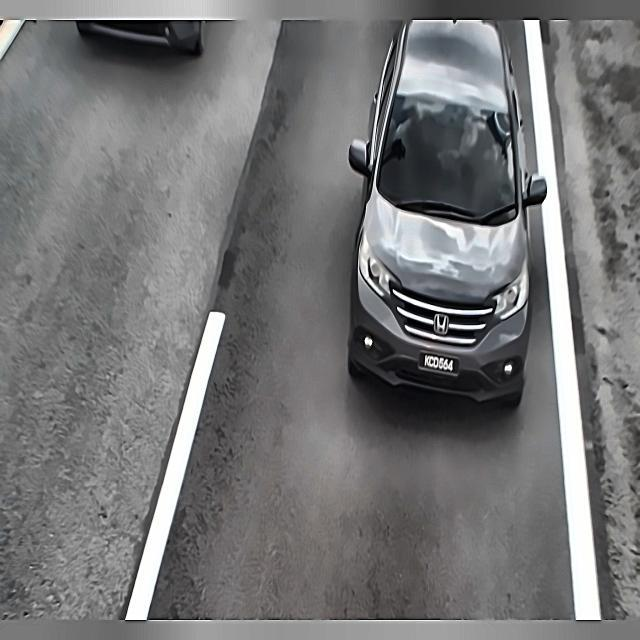car: (421, 350, 457, 378)
